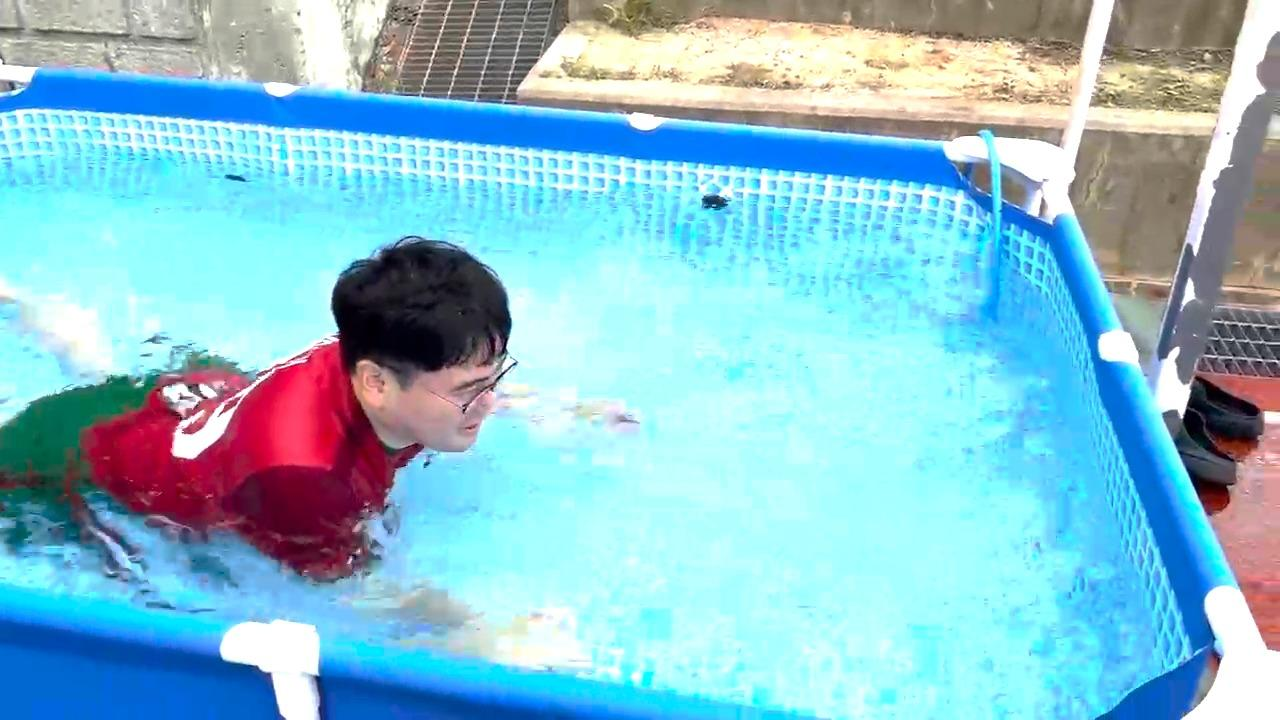Swimming: (0, 223, 663, 613)
